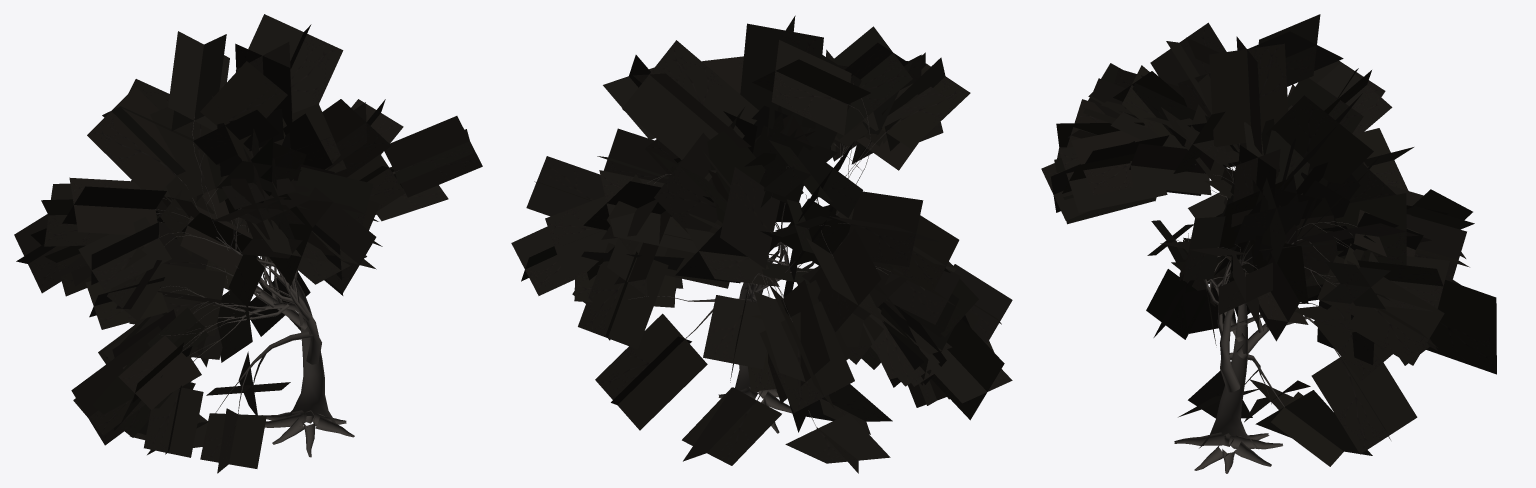
The model's file is Roble_Seco_Grande.glb.
3 views of the same model, side by side, from view 1: azimuth 30°, elevation 25°; view 2: azimuth 150°, elevation 25°; view 3: azimuth 270°, elevation 25° (orthographic). The views are drawn at different scales.
Visible parts, largest first — view 1: Roble_Seco_Grande; view 2: Roble_Seco_Grande; view 3: Roble_Seco_Grande.
Boxes of the visible parts, x1,y1,x2,y2 form: Roble_Seco_Grande: (14, 14, 482, 473); Roble_Seco_Grande: (511, 15, 1012, 473); Roble_Seco_Grande: (1041, 14, 1496, 473).
Bounding box in the file's own units: 20.07 × 19.01 × 20.75.
2 materials, 1 textured.
